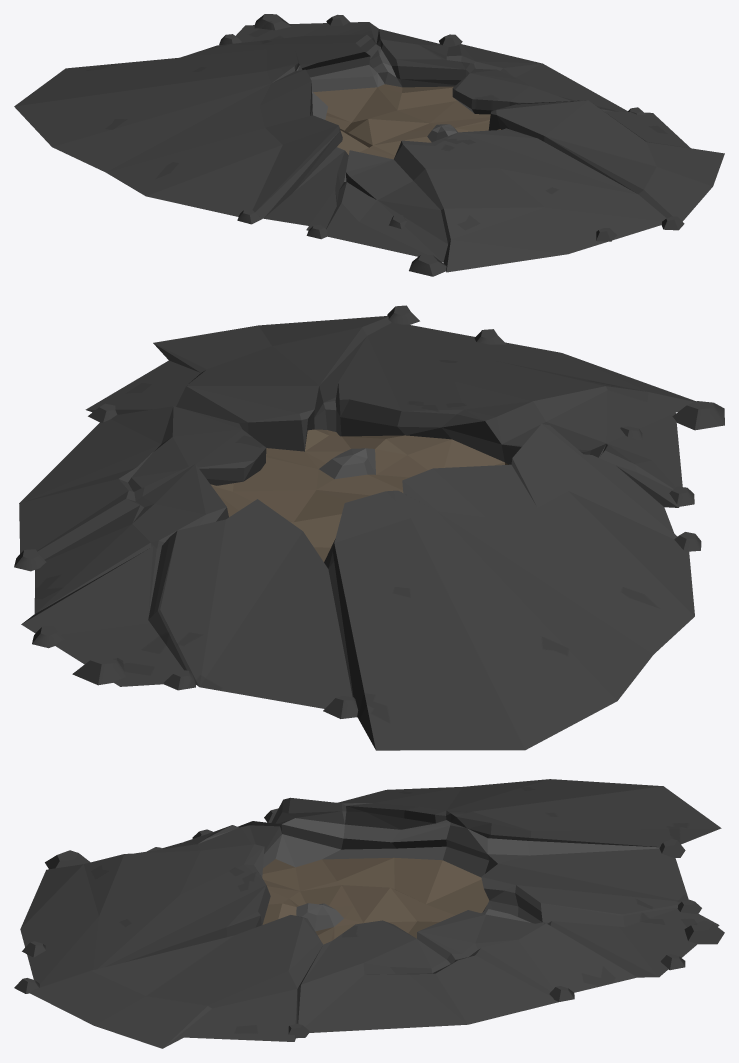
Rendered from SM_Env_RoadPiece_Damaged_01.glb.
3 renders of one model, top to bottom at view 1: azimuth 30°, elevation 25°; view 2: azimuth 150°, elevation 25°; view 3: azimuth 270°, elevation 25°, orthographic. The views are drawn at different scales.
Parts seen in each view (by area): view 1: SM_Env_RoadPiece_Damaged_01; view 2: SM_Env_RoadPiece_Damaged_01; view 3: SM_Env_RoadPiece_Damaged_01.
Part boxes in pixels (bbox=[...]): SM_Env_RoadPiece_Damaged_01: bbox=[14, 14, 724, 276]; SM_Env_RoadPiece_Damaged_01: bbox=[14, 305, 724, 750]; SM_Env_RoadPiece_Damaged_01: bbox=[14, 779, 724, 1048].
Size of the model in its own units: 6.63 by 0.863 by 7.38.
Materials: 1 (1 with a texture image).
